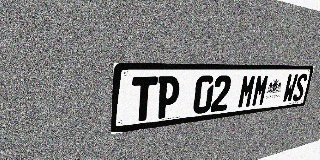0: (192, 75, 215, 114)
2: (210, 75, 232, 112)
M: (237, 75, 257, 109), (251, 74, 270, 107)
P: (155, 76, 181, 119)
S: (292, 74, 308, 102)
T: (130, 76, 158, 122)
W: (282, 74, 298, 103)
